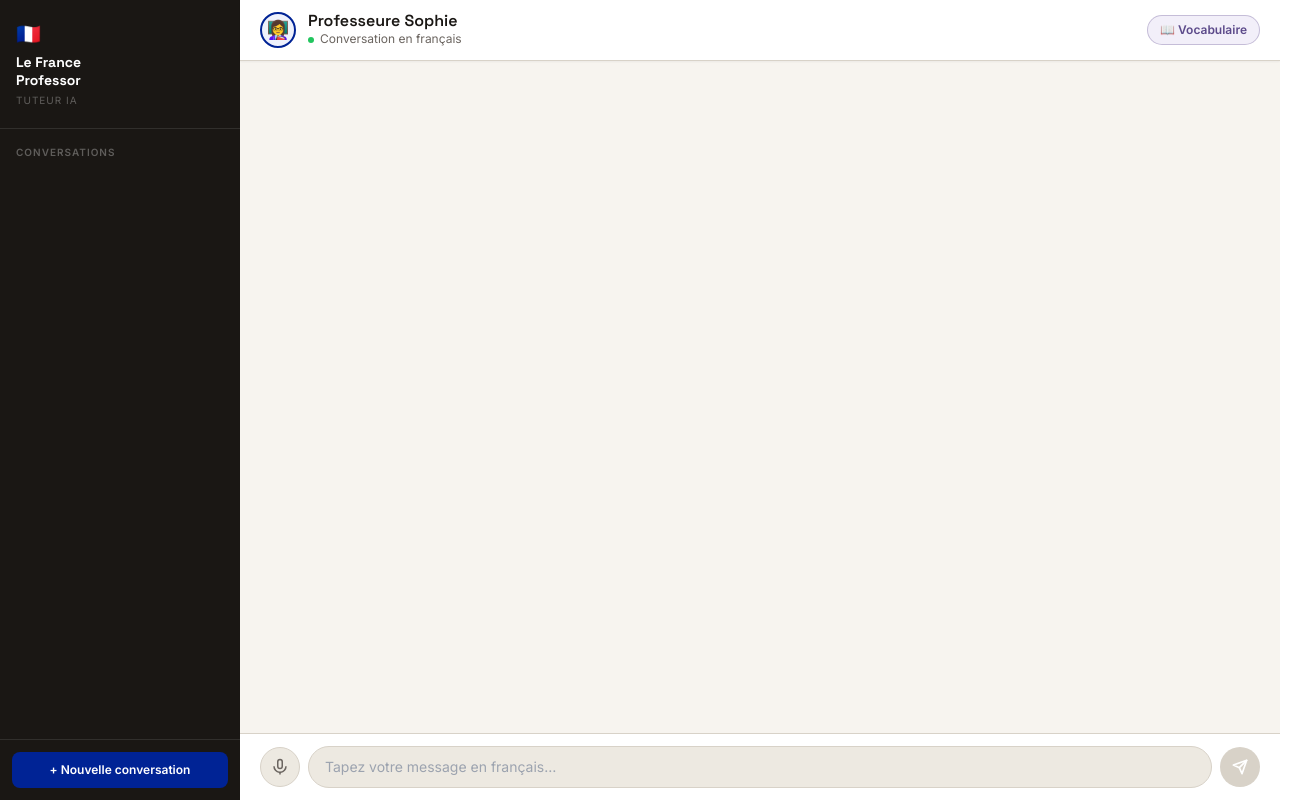
it: ChatClient › /vocabulary slash command › fills input with /vocabulary when autocomplete entry is clicked
Type "/" into the field at (760, 767), box 308,746 -> 1212,788
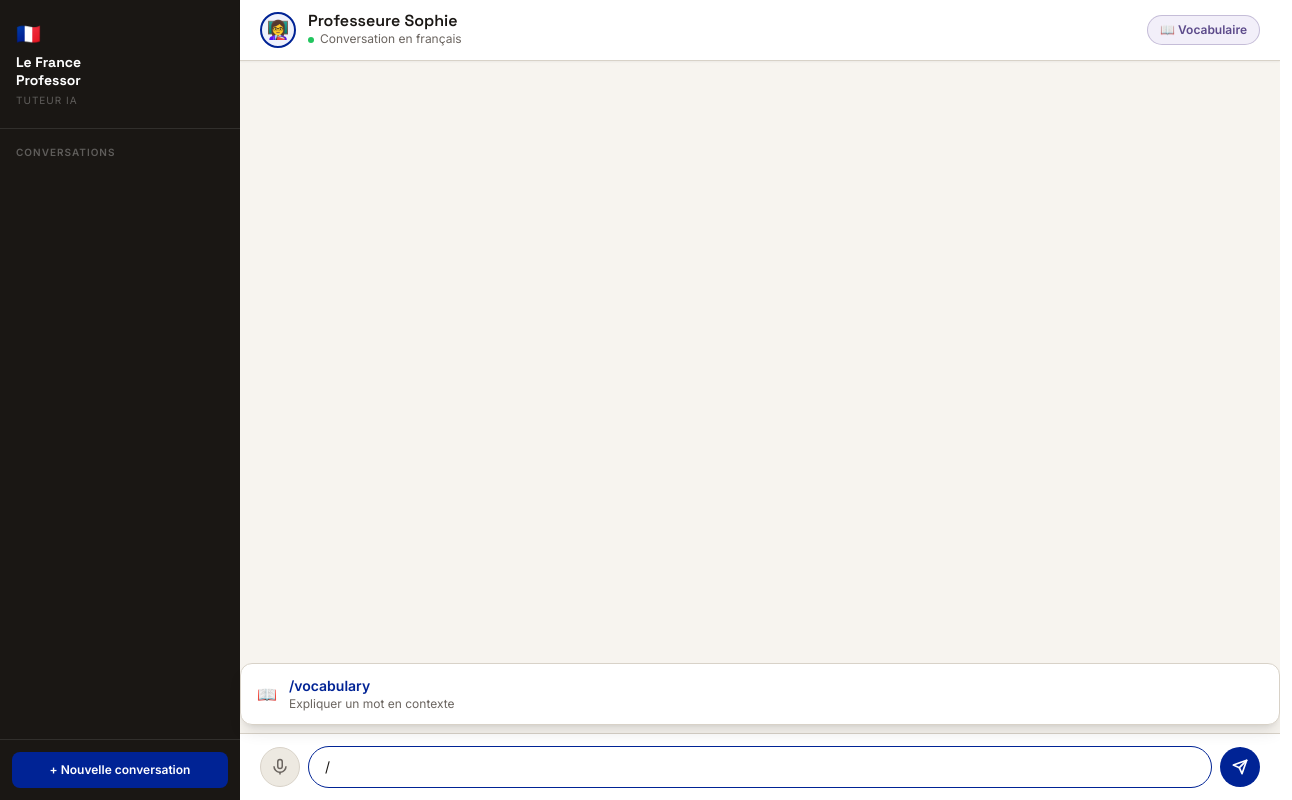
Click the text "/vocabulary" at (330, 686), box 289,677 -> 370,694
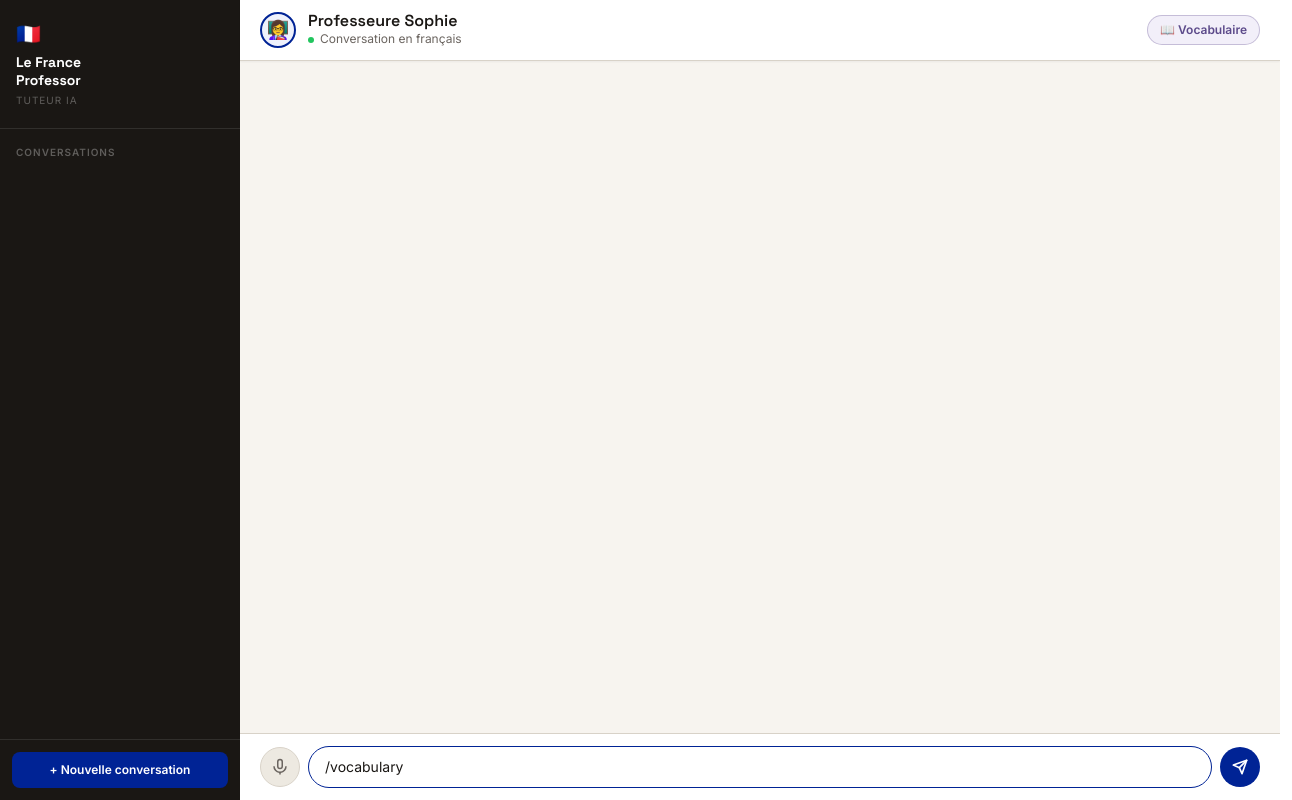
Result: the field holds "/vocabulary " at 308,746 -> 1212,788
